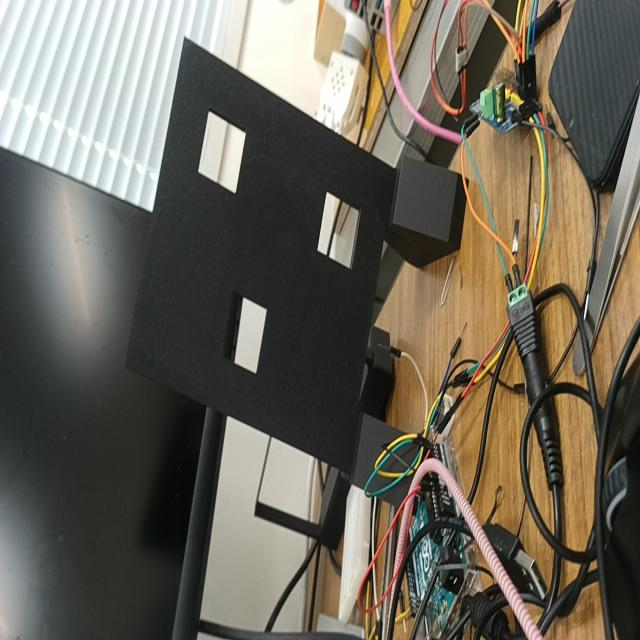Obstacle: (199, 111, 246, 193), (222, 290, 267, 372), (318, 192, 363, 271)
Wall: (126, 39, 398, 471)
